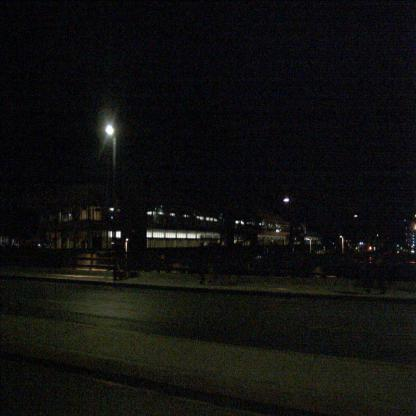human-pedestrian-adult: (197, 235, 206, 286), (207, 238, 216, 284)
